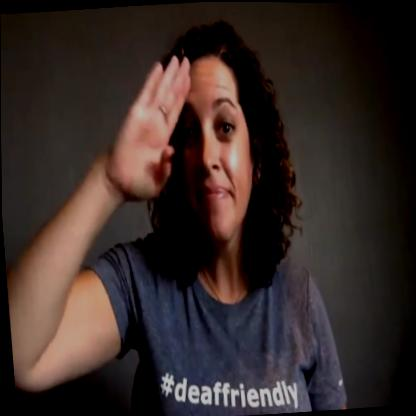Hello: (92, 2, 290, 284)
